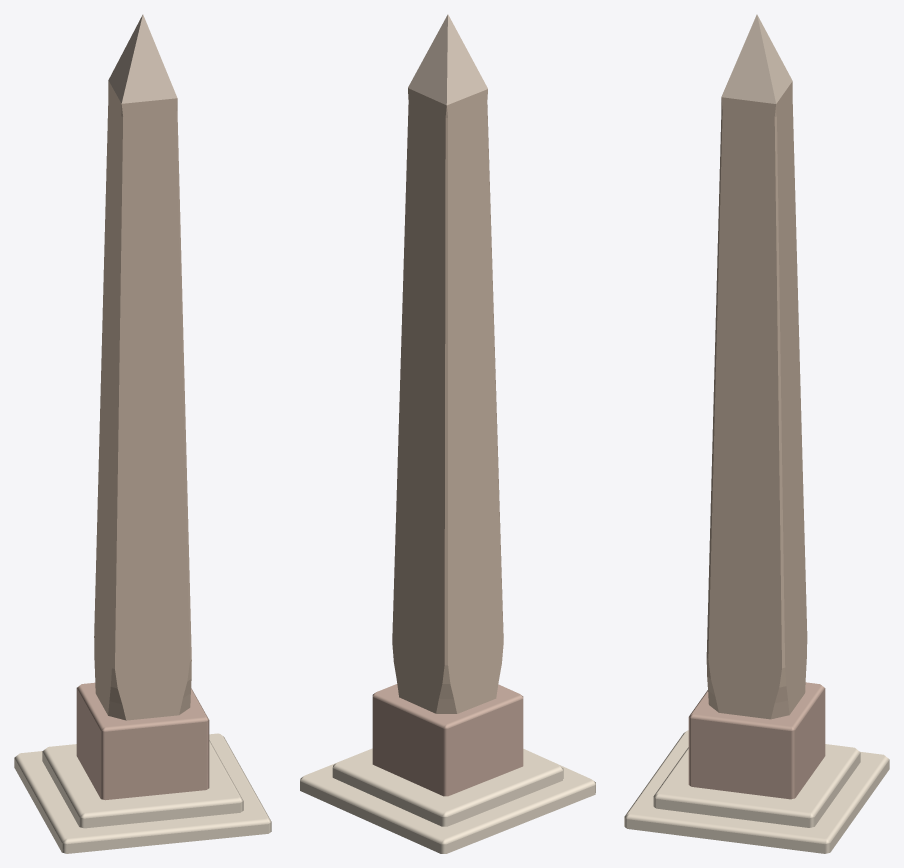
File: detail.glb
3 renders of one model, left to right at view 1: azimuth 30°, elevation 25°; view 2: azimuth 150°, elevation 25°; view 3: azimuth 270°, elevation 25°, orthographic.
Parts seen in each view (by area): view 1: cleopatras-needle; view 2: cleopatras-needle; view 3: cleopatras-needle.
Boxes of the visible parts, <box> form: cleopatras-needle: <box>14,14,271,853</box>; cleopatras-needle: <box>300,14,595,853</box>; cleopatras-needle: <box>624,14,889,853</box>.
Size of the model in its own units: 7.4 by 24.12 by 7.4.
